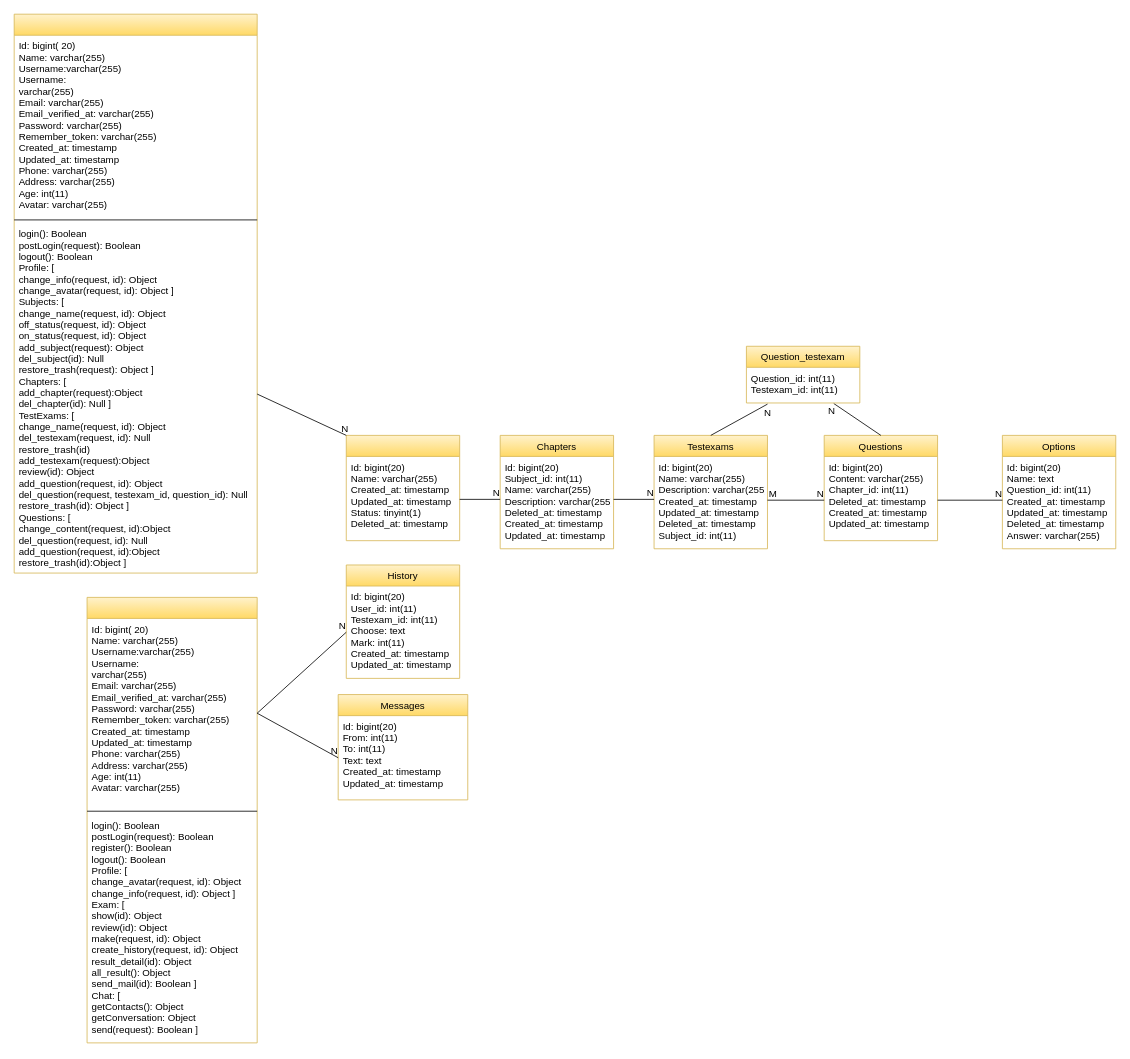
Image size: 1130x1059. Some labels were removed from this diagram. The shapes that lost their labels are listed below. From the top down, each one's box as (x1, y1, x2, y2) in pixels, then its label:
(13, 13, 257, 573): Admins
(345, 435, 460, 541): Subjects
(86, 597, 257, 1043): Users
